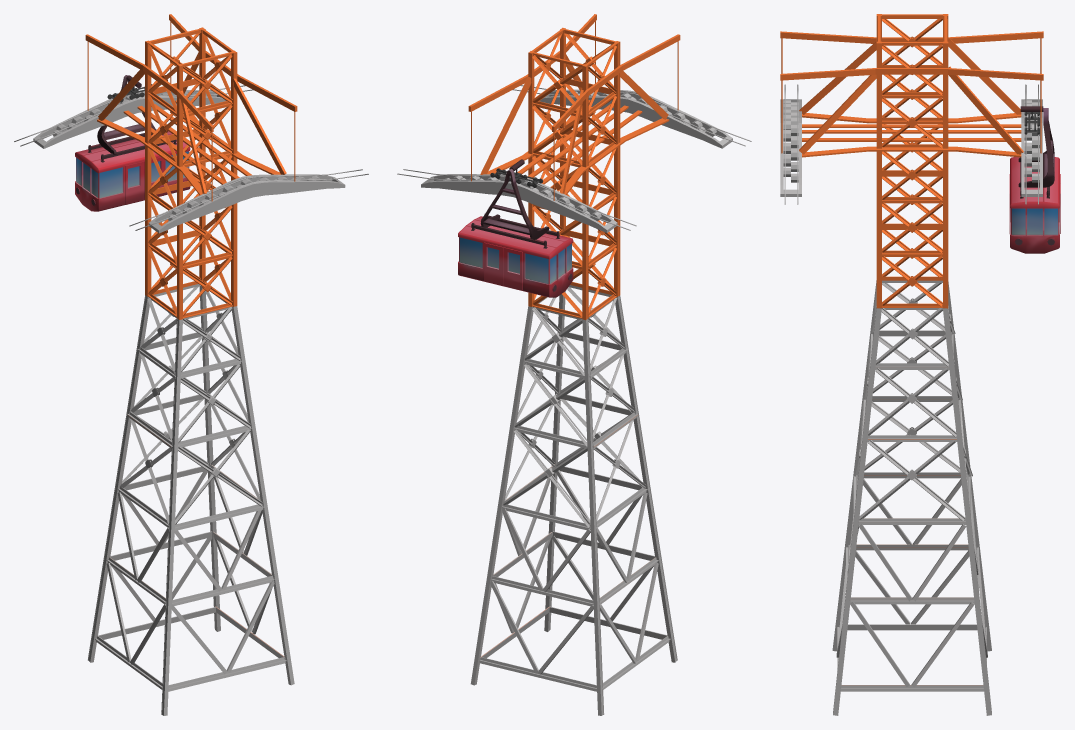
The model's file is cable car14.fbx.
3 renders of one model, left to right at view 1: azimuth 30°, elevation 25°; view 2: azimuth 150°, elevation 25°; view 3: azimuth 270°, elevation 25°, orthographic. The views are drawn at different scales.
Visible parts, largest first — view 1: Cube.297, Cube; view 2: Cube.297, Cube; view 3: Cube.297, Cube.
Part boxes in pixels (<box>): Cube.297: <box>14,14,368,715</box>; Cube: <box>75,75,190,211</box>; Cube.297: <box>397,14,751,715</box>; Cube: <box>458,159,573,297</box>; Cube.297: <box>780,14,1043,715</box>; Cube: <box>1009,106,1060,253</box>.
Bounding box in the file's own units: 1002 × 2573 × 1000.
3 materials, 2 textured.
